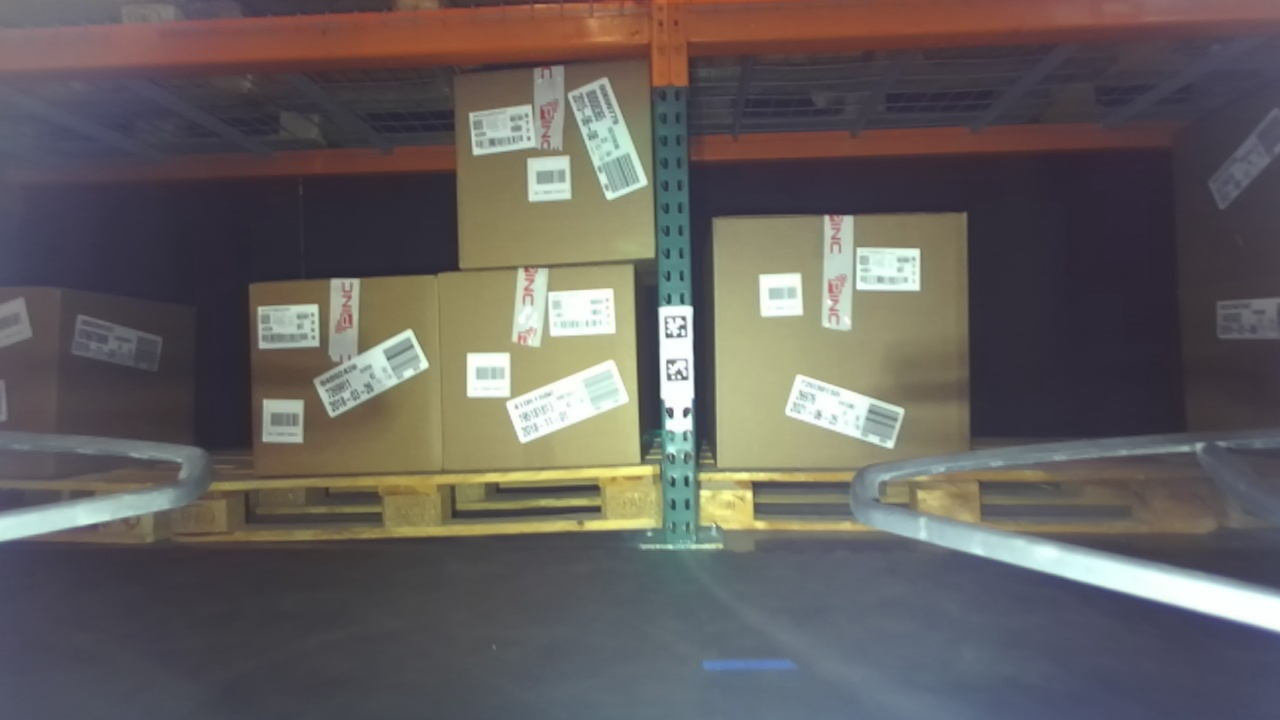box: (702, 203, 983, 489), (427, 246, 655, 501), (229, 259, 465, 497), (442, 49, 667, 276)
